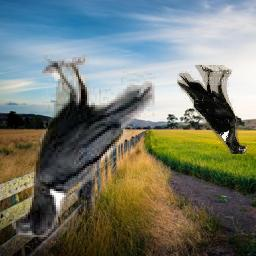Crow: (13, 56, 156, 245), (177, 66, 247, 155)
